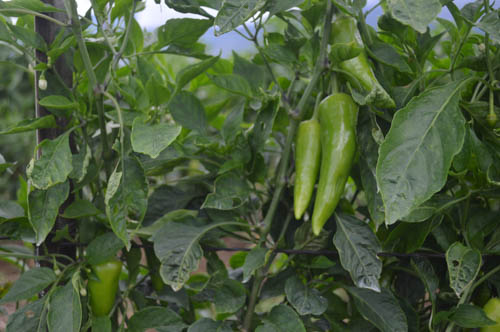ChiliPepper: (332, 13, 398, 114), (313, 93, 357, 231), (290, 118, 319, 225), (80, 261, 123, 322)
